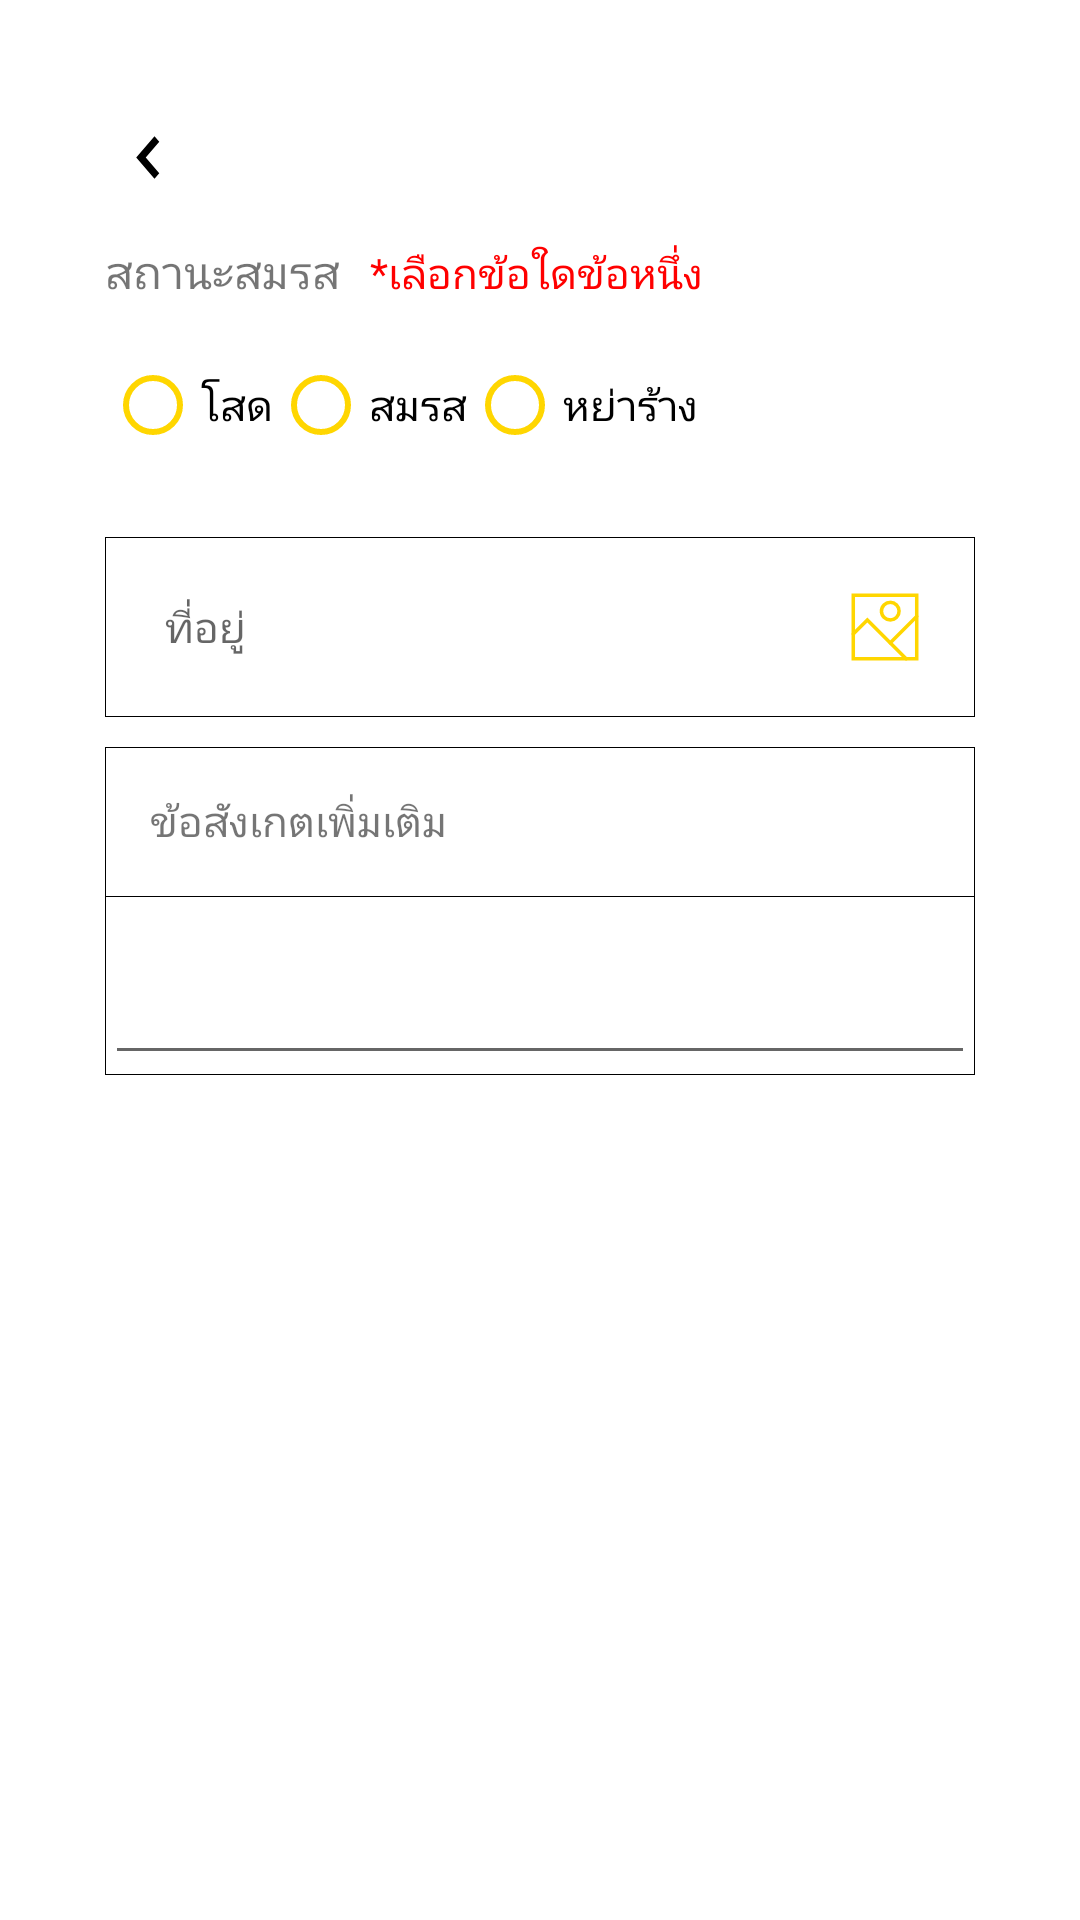

Point at icon controls on the screen. Image size 1080*1920, points as [x,y].
back: [147,157]
